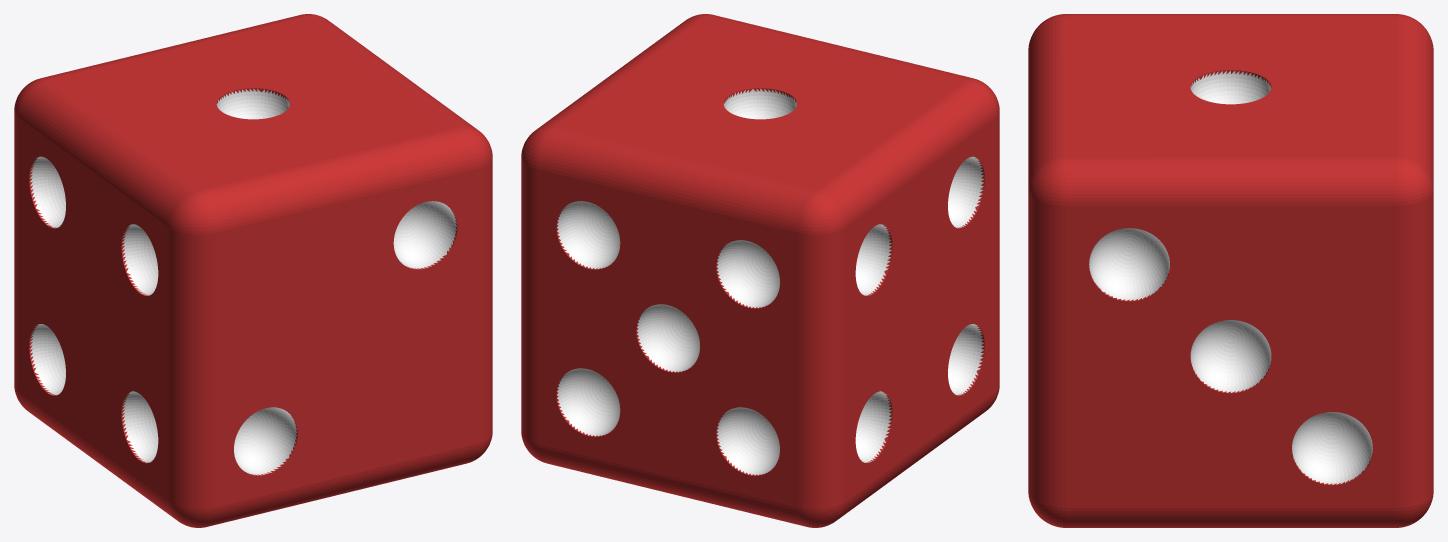
File: die.glb
The picture shows the model from 3 angles, left to right: view 1: azimuth 30°, elevation 25°; view 2: azimuth 150°, elevation 25°; view 3: azimuth 270°, elevation 25°; orthographic projection. The views are drawn at different scales.
Parts seen in each view (by area): view 1: die; view 2: die; view 3: die.
Part boxes in pixels (x1,y1,x2,y2): die: (14, 14, 492, 527); die: (521, 14, 999, 527); die: (1028, 14, 1433, 527).
Bounding box in the file's own units: 16 × 16 × 16.
